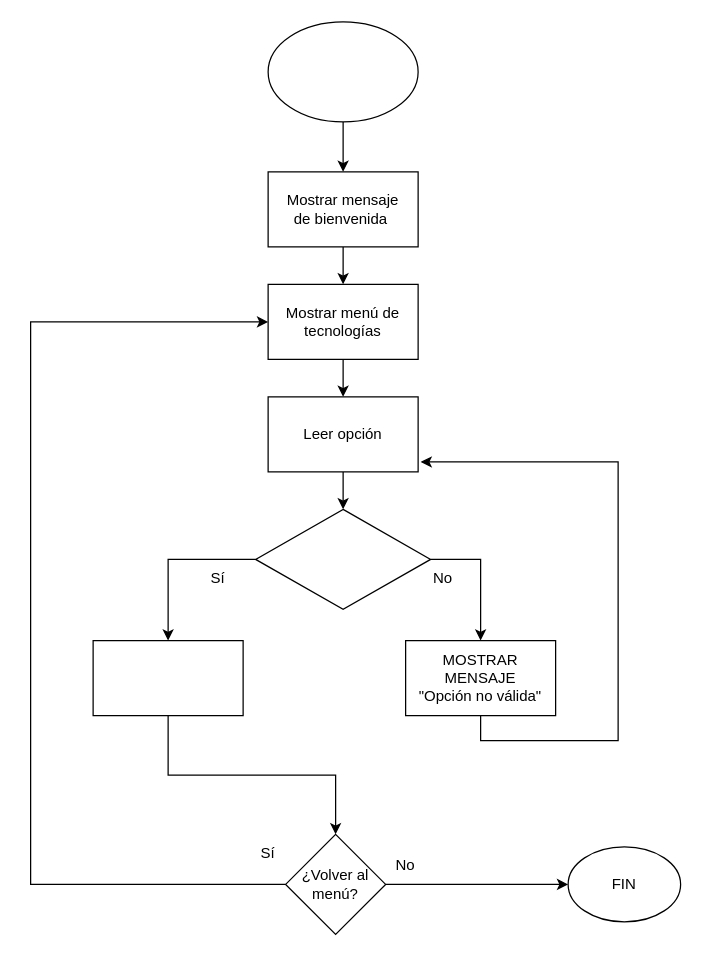
Image size: 703x956. Some labels were removed from this diagram. Here are the shapes that lost their labels. From the top down, the centre of each, then its label:
At point 342,71: "INICIO".
At point 342,558: "¿OPCIÓN VÁLIDA ENTRE 1 Y 5?".
At point 167,677: "MOSTRAR IMPACTOS DE LA TECNOLOGÍA".
